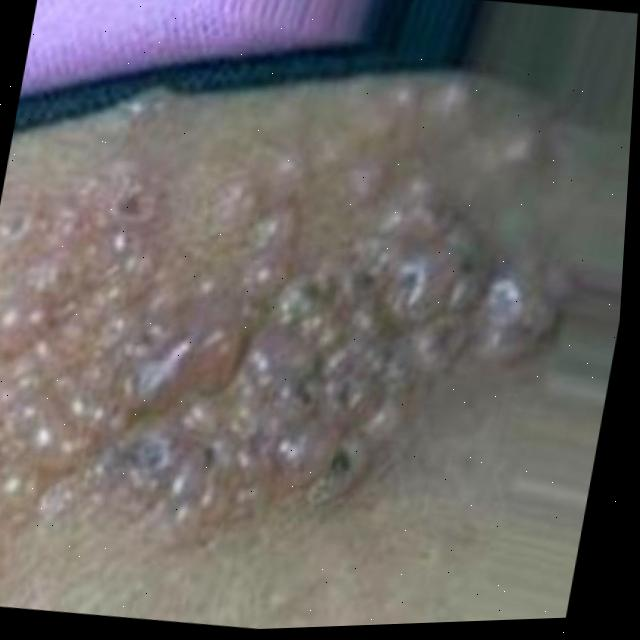Shingles: (0, 29, 594, 640)
